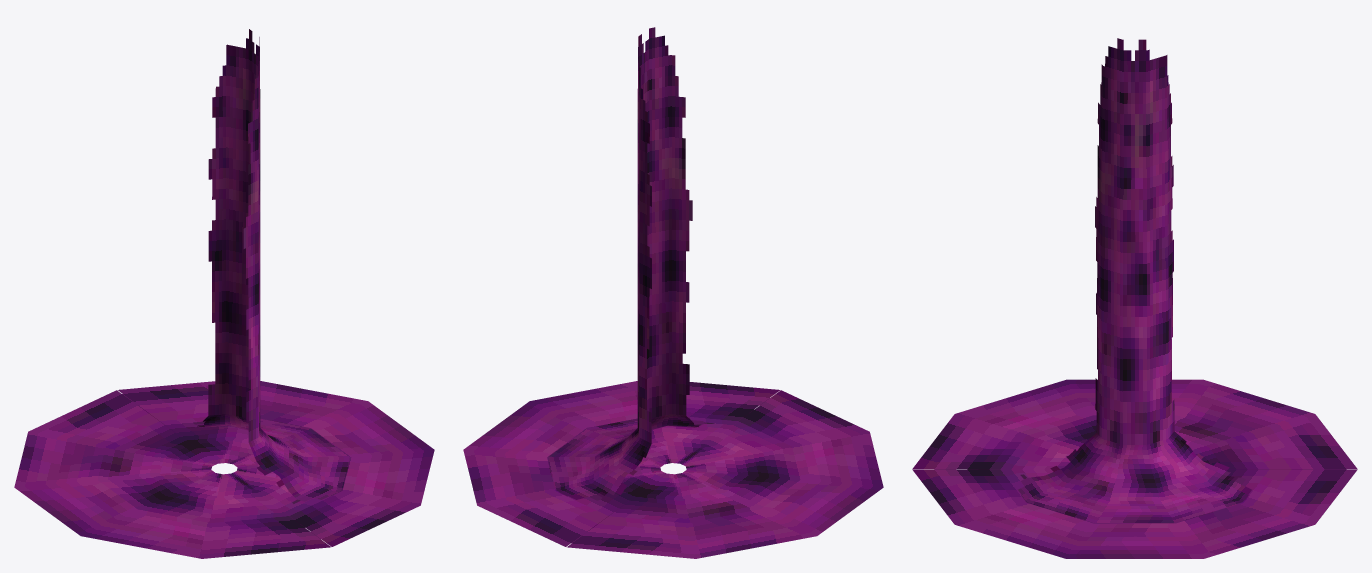
The model's file is eff_enem_MA_Duon_Kagemusi2_pori_S07_M.obj.
3 views of the same model, side by side, from view 1: azimuth 30°, elevation 25°; view 2: azimuth 150°, elevation 25°; view 3: azimuth 270°, elevation 25° (orthographic). The views are drawn at different scales.
Parts seen in each view (by area): view 1: polygon0, polygon1; view 2: polygon0, polygon1; view 3: polygon1, polygon0.
Boxes of the visible parts, x1,y1,x2,y2 form: polygon0: [14, 381, 434, 558]; polygon1: [188, 29, 350, 503]; polygon0: [463, 381, 883, 558]; polygon1: [547, 27, 714, 500]; polygon1: [1018, 38, 1251, 523]; polygon0: [912, 379, 1357, 558].
Size of the model in its own units: 7.39 by 8.76 by 7.77.
Materials: 2 (2 with a texture image).
